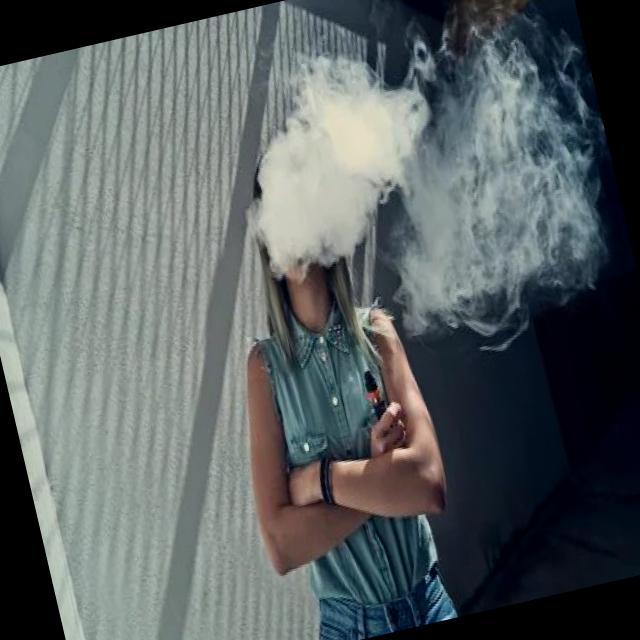cigarette: (361, 366, 396, 432)
